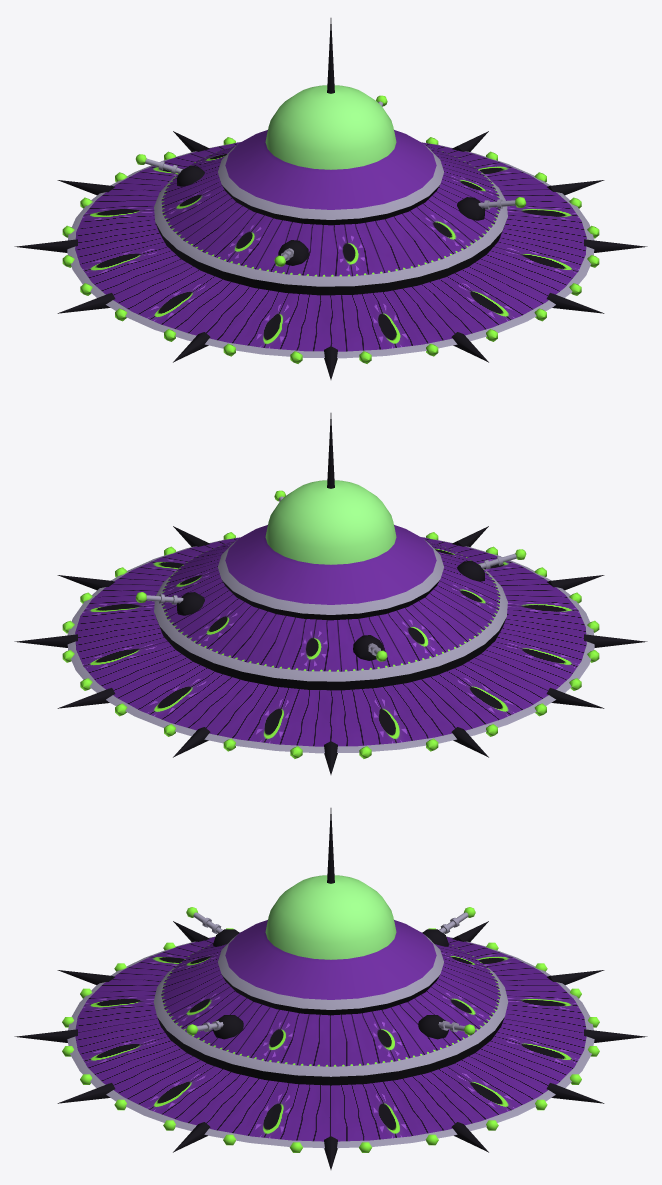
Rendered from dreadnought.obj.
3 views of the same model, one above another, from view 1: azimuth 30°, elevation 25°; view 2: azimuth 150°, elevation 25°; view 3: azimuth 270°, elevation 25° (orthographic).
Visible parts, largest first — view 1: tier1, tier2, tier3, crown, rim_spike, rim_light, turret; view 2: tier1, tier2, tier3, crown, rim_spike, rim_light, turret; view 3: tier1, tier2, tier3, crown, rim_spike, rim_light, turret, turret_gun.
Part boxes in pixels (<box>): tier1: <box>67,142,594,358</box>; tier2: <box>154,146,507,295</box>; tier3: <box>218,130,443,225</box>; crown: <box>265,85,396,169</box>; rim_spike: <box>14,131,647,379</box>; rim_light: <box>62,137,599,363</box>; turret: <box>177,165,484,265</box>; tier1: <box>67,537,594,753</box>; tier2: <box>154,541,507,690</box>; tier3: <box>218,525,443,620</box>; crown: <box>265,480,396,564</box>; rim_spike: <box>14,526,647,774</box>; rim_light: <box>62,532,599,758</box>; turret: <box>177,560,484,660</box>; tier1: <box>67,932,594,1148</box>; tier2: <box>153,943,508,1085</box>; tier3: <box>218,920,443,1015</box>; crown: <box>265,875,396,959</box>; rim_spike: <box>14,921,647,1169</box>; rim_light: <box>62,928,599,1152</box>; turret: <box>213,929,448,1039</box>; turret_gun: <box>193,912,468,1031</box>.
Bounding box in the file's own units: 84 × 47 × 84.
Materials: 6 (1 with a texture image).
